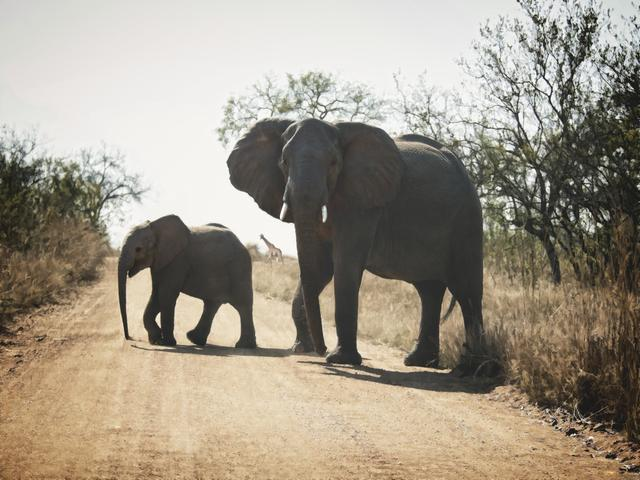elephant: (212, 75, 514, 380), (92, 186, 285, 370)
